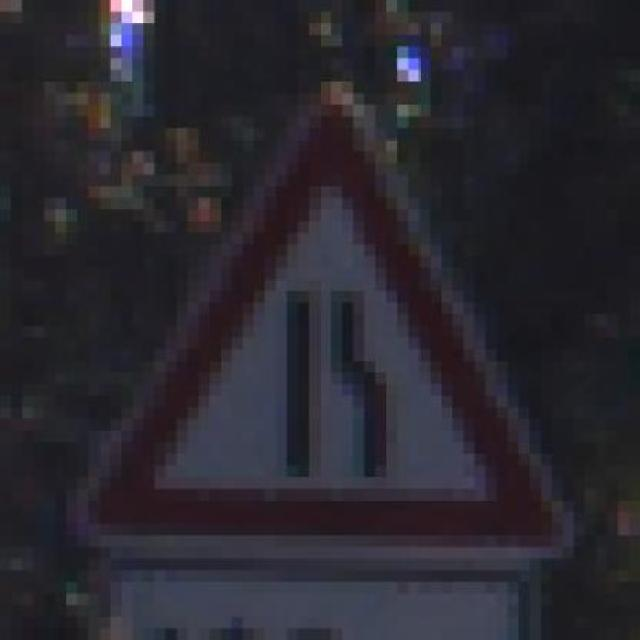-Road narrows on right: (54, 70, 586, 570)
